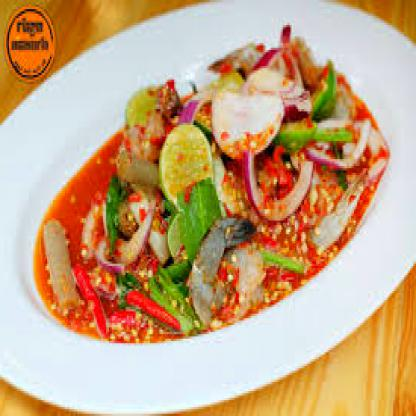Yum: (10, 35, 380, 387)
